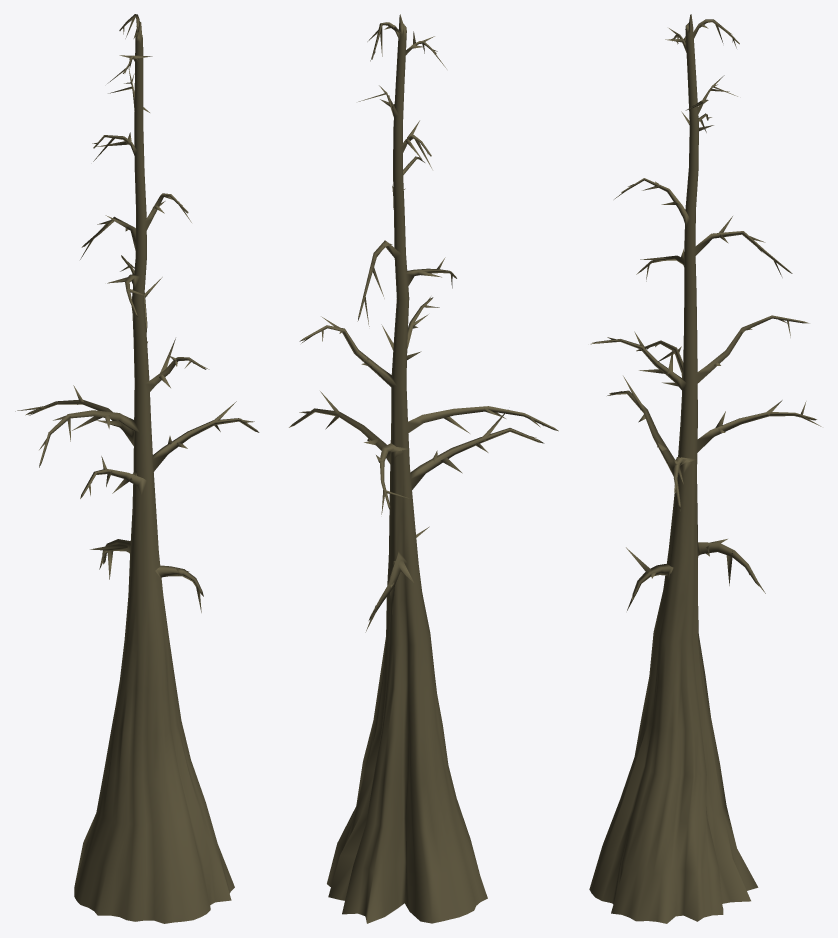
File: jungle_mort2.glb
The picture shows the model from 3 angles, left to right: view 1: azimuth 30°, elevation 25°; view 2: azimuth 150°, elevation 25°; view 3: azimuth 270°, elevation 25°; orthographic projection. The views are drawn at different scales.
Visible parts, largest first — view 1: cypres_chauve_cypreschauve_bark_D_cypreschauve_bark_D_0; view 2: cypres_chauve_cypreschauve_bark_D_cypreschauve_bark_D_0; view 3: cypres_chauve_cypreschauve_bark_D_cypreschauve_bark_D_0.
Boxes of the visible parts, left/top/right/bottom form: cypres_chauve_cypreschauve_bark_D_cypreschauve_bark_D_0: left=15, top=14, right=259, bottom=923; cypres_chauve_cypreschauve_bark_D_cypreschauve_bark_D_0: left=289, top=14, right=558, bottom=923; cypres_chauve_cypreschauve_bark_D_cypreschauve_bark_D_0: left=589, top=14, right=821, bottom=923.
Bounding box in the file's own units: 6.89 × 23.41 × 5.71.
